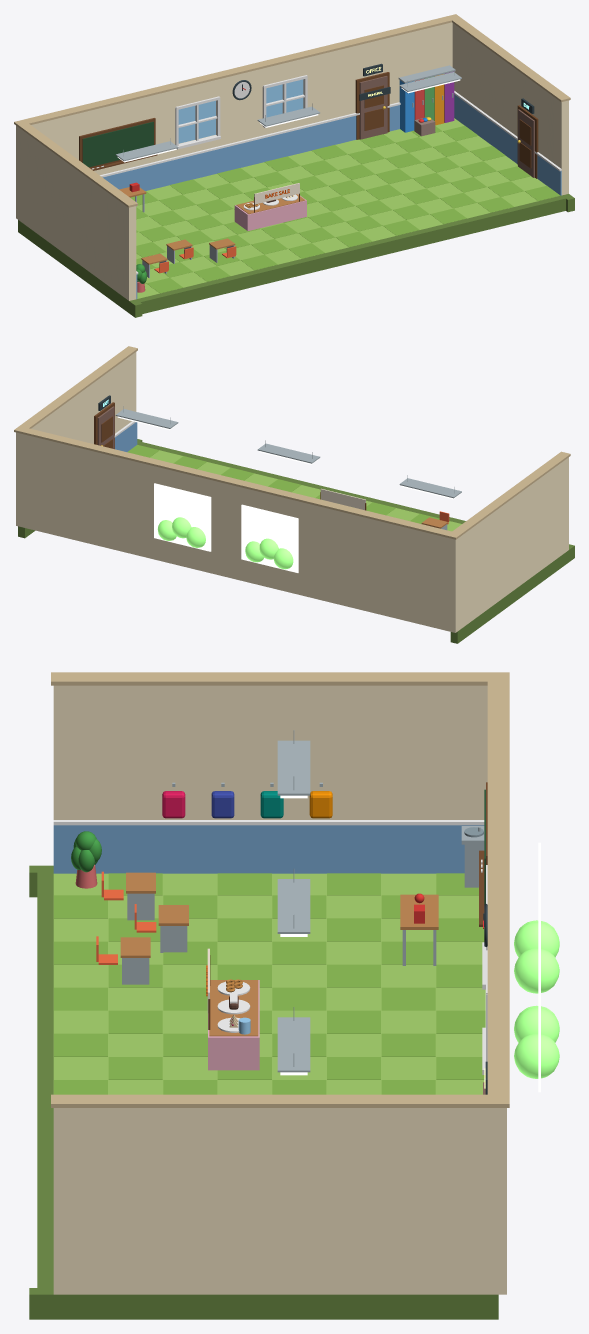
File: interiors_school.glb
3 renders of one model, top to bottom at view 1: azimuth 30°, elevation 25°; view 2: azimuth 150°, elevation 25°; view 3: azimuth 270°, elevation 25°, orthographic. The views are drawn at different scales.
Parts seen in each view (by area): view 1: InteriorsSchool_static; view 2: InteriorsSchool_static; view 3: InteriorsSchool_static.
Boxes of the visible parts, bbox=[...] form: InteriorsSchool_static: bbox=[14, 14, 574, 317]; InteriorsSchool_static: bbox=[14, 346, 574, 643]; InteriorsSchool_static: bbox=[29, 672, 559, 1319].
Bounding box in the file's own units: 18.7 × 4.38 × 9.72.
